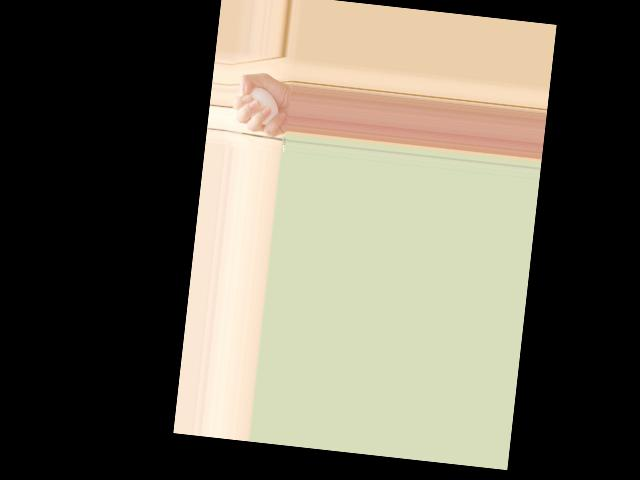egg: (243, 86, 281, 126)
